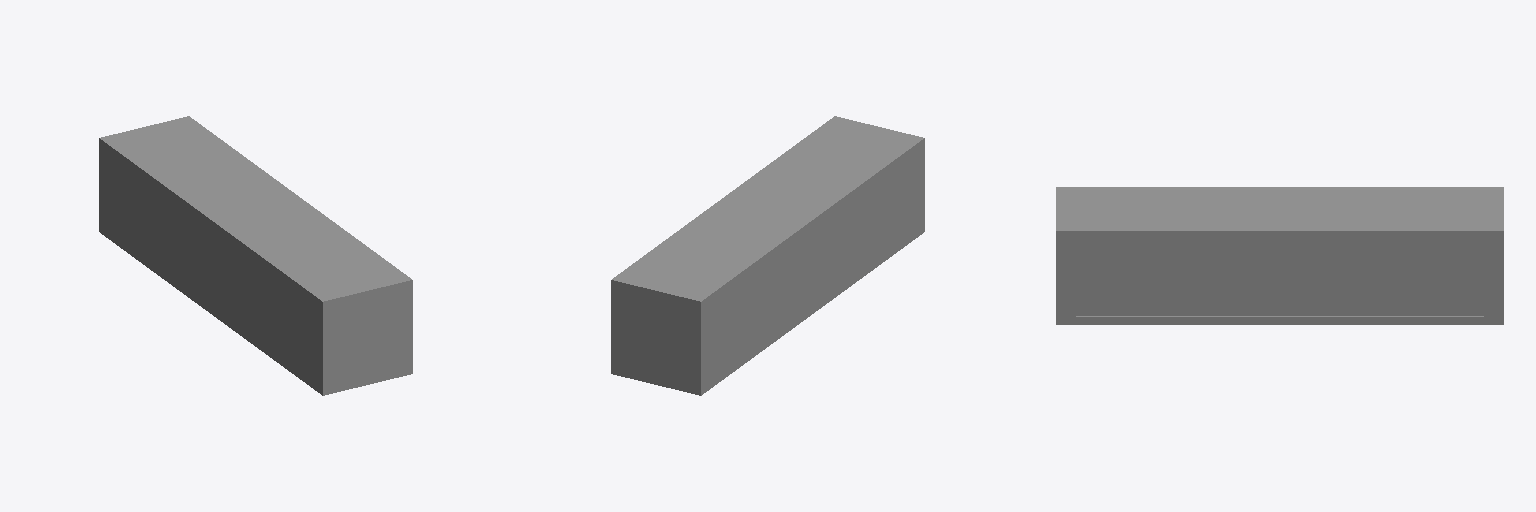
Rendered from Nametag.obj.
3 renders of one model, left to right at view 1: azimuth 30°, elevation 25°; view 2: azimuth 150°, elevation 25°; view 3: azimuth 270°, elevation 25°, orthographic.
Parts seen in each view (by area): view 1: Cube.002; view 2: Cube.002; view 3: Cube.004, Cube.002.
Boxes of the visible parts, x1=… form: Cube.002: x1=99, y1=116, x2=412, y2=395; Cube.002: x1=611, y1=116, x2=924, y2=395; Cube.004: x1=1076, y1=239, x2=1483, y2=315; Cube.002: x1=1056, y1=187, x2=1503, y2=324.
Size of the model in its own units: 0.3094 by 0.3094 by 1.33.